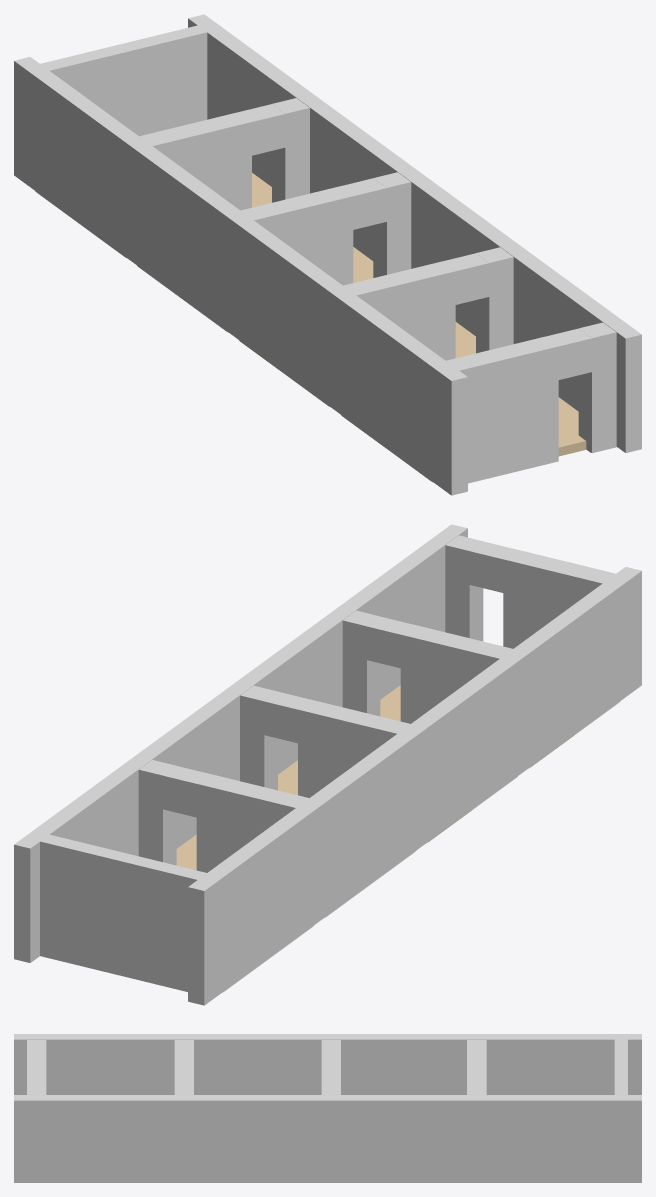
The model's file is NewStage.gltf.
The picture shows the model from 3 angles, top to bottom: view 1: azimuth 30°, elevation 25°; view 2: azimuth 150°, elevation 25°; view 3: azimuth 270°, elevation 25°; orthographic projection. The views are drawn at different scales.
Visible parts, largest first — view 1: COL2, COL1, COL4, COL3, COL6, COL5, COL7, Stage; view 2: COL2, COL1, COL3, COL5, COL4, COL7, COL6, Stage; view 3: COL1, COL2, COL4, COL5, COL6, COL7, COL3.
Boxes of the visible parts, <box> form: COL2: <box>14,57,467,495</box>; COL1: <box>188,14,641,452</box>; COL4: <box>446,322,616,483</box>; COL3: <box>29,22,219,136</box>; COL6: <box>240,172,411,285</box>; COL5: <box>343,247,513,360</box>; COL7: <box>139,98,309,210</box>; Stage: <box>35,173,590,481</box>; COL2: <box>188,567,641,1005</box>; COL1: <box>14,524,467,962</box>; COL3: <box>27,832,214,991</box>; COL5: <box>342,610,512,723</box>; COL4: <box>445,535,615,648</box>; COL7: <box>138,760,308,872</box>; COL6: <box>240,685,410,797</box>; Stage: <box>176,685,620,992</box>; COL1: <box>14,1095,641,1182</box>; COL2: <box>14,1034,641,1094</box>; COL4: <box>27,1040,46,1094</box>; COL5: <box>174,1040,193,1094</box>; COL6: <box>321,1040,340,1094</box>; COL7: <box>467,1040,486,1094</box>; COL3: <box>614,1039,627,1094</box>.
Size of the model in its own units: 5.64 by 3.29 by 22.45.
